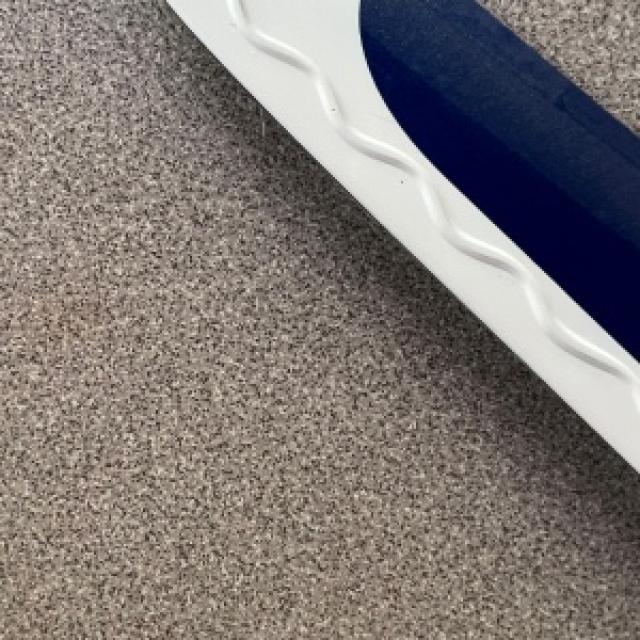healthy: (0, 0, 638, 638), (166, 0, 638, 467)
